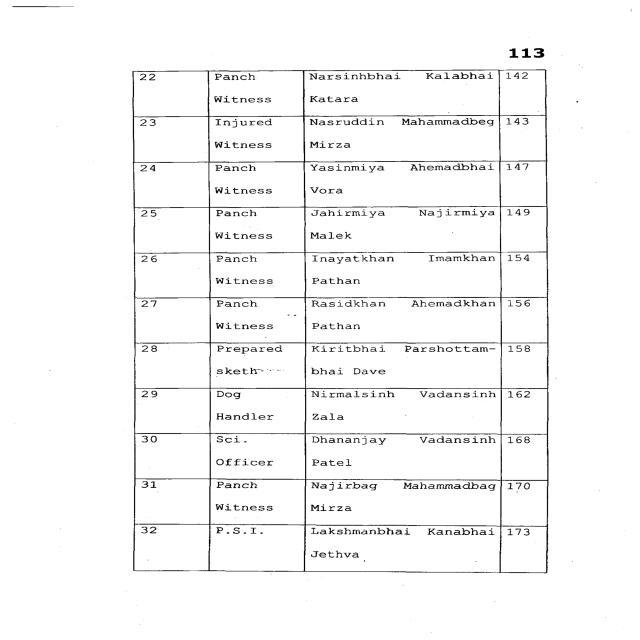page-number: (412, 0, 633, 62)
